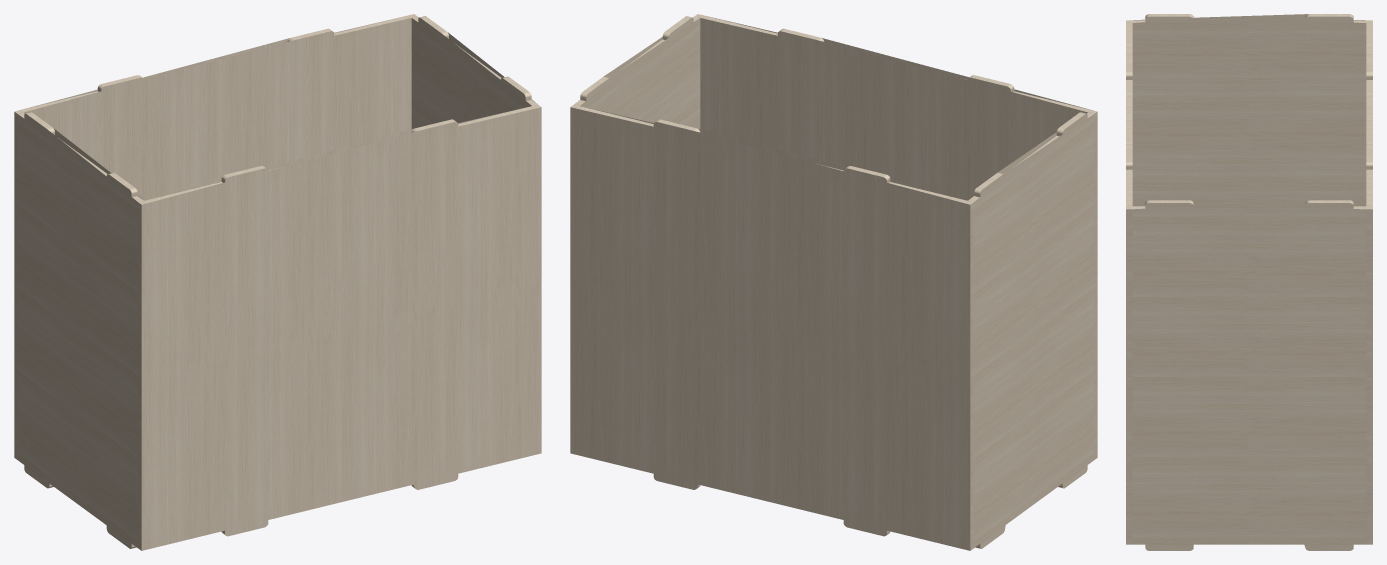
3 views of the same model, side by side, from view 1: azimuth 30°, elevation 25°; view 2: azimuth 150°, elevation 25°; view 3: azimuth 270°, elevation 25° (orthographic). The views are drawn at different scales.
Visible parts, largest first — view 1: Mesh4 Block_257_7_2 ___311_2 Model, Mesh1 Block_376_7_1 Block_375_7_1 Model, Mesh2 Block_257_7_1 ___311_1 Model, Mesh3 Block_376_7_2 Block_375_7_2 Model; view 2: Mesh2 Block_257_7_1 ___311_1 Model, Mesh1 Block_376_7_1 Block_375_7_1 Model, Mesh4 Block_257_7_2 ___311_2 Model, Mesh3 Block_376_7_2 Block_375_7_2 Model; view 3: Mesh3 Block_376_7_2 Block_375_7_2 Model, Mesh1 Block_376_7_1 Block_375_7_1 Model, Mesh2 Block_257_7_1 ___311_1 Model, Mesh4 Block_257_7_2 ___311_2 Model.
Part boxes in pixels (x1,y1,x2,y2): Mesh4 Block_257_7_2 ___311_2 Model: [138, 105, 541, 550]; Mesh1 Block_376_7_1 Block_375_7_1 Model: [17, 112, 143, 548]; Mesh2 Block_257_7_1 ___311_1 Model: [14, 14, 417, 459]; Mesh3 Block_376_7_2 Block_375_7_2 Model: [411, 16, 537, 128]; Mesh2 Block_257_7_1 ___311_1 Model: [570, 105, 973, 550]; Mesh1 Block_376_7_1 Block_375_7_1 Model: [968, 112, 1094, 548]; Mesh4 Block_257_7_2 ___311_2 Model: [694, 14, 1097, 459]; Mesh3 Block_376_7_2 Block_375_7_2 Model: [574, 16, 700, 128]; Mesh3 Block_376_7_2 Block_375_7_2 Model: [1132, 200, 1366, 550]; Mesh1 Block_376_7_1 Block_375_7_1 Model: [1132, 14, 1366, 206]; Mesh2 Block_257_7_1 ___311_1 Model: [1366, 20, 1372, 544]; Mesh4 Block_257_7_2 ___311_2 Model: [1126, 20, 1132, 544].
Size of the model in its own units: 135 by 116 by 74.32.
1 material, 1 textured.
